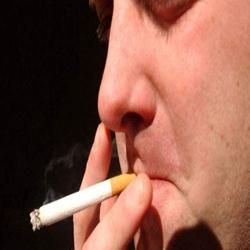smoking: (29, 166, 181, 232)
